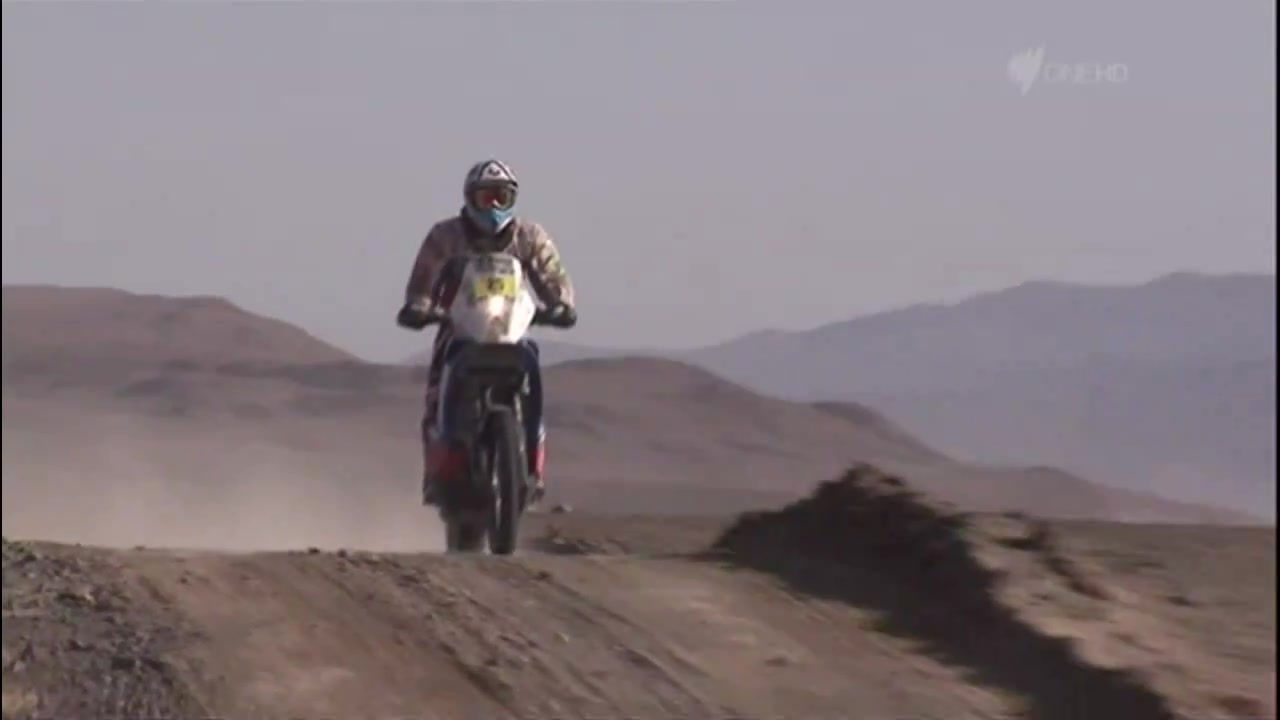motorbike: (395, 249, 576, 558)
